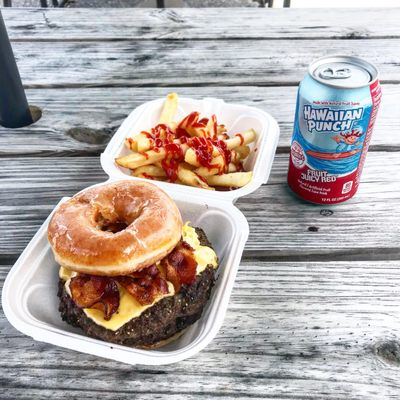sushi: (112, 94, 278, 204)
